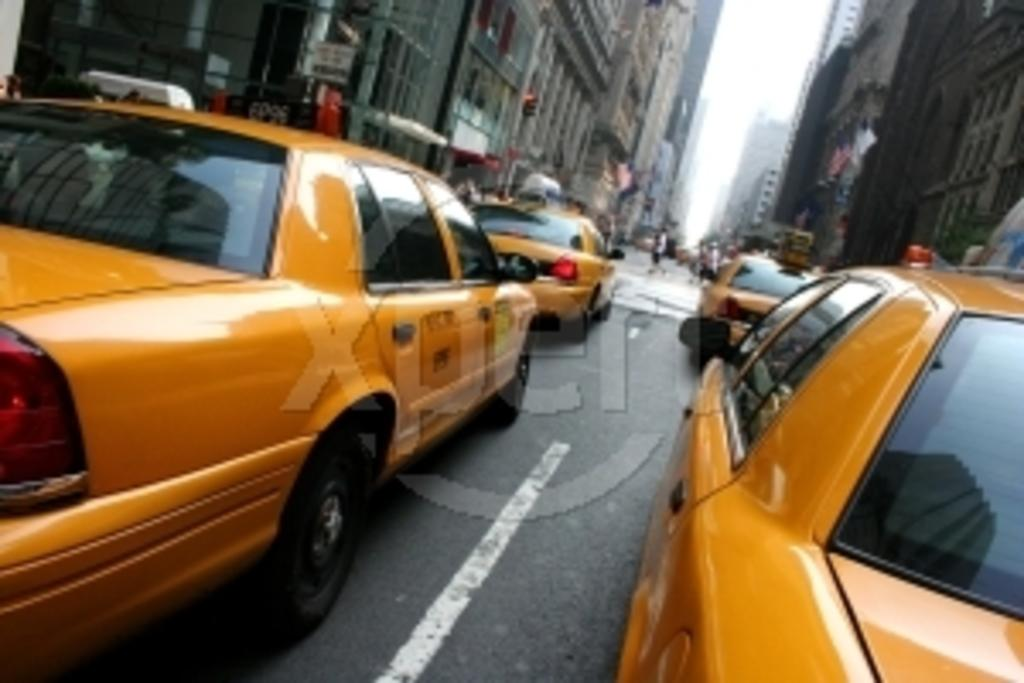taxi: (1, 98, 540, 683), (617, 269, 1024, 683), (473, 174, 627, 343), (699, 224, 832, 369)
